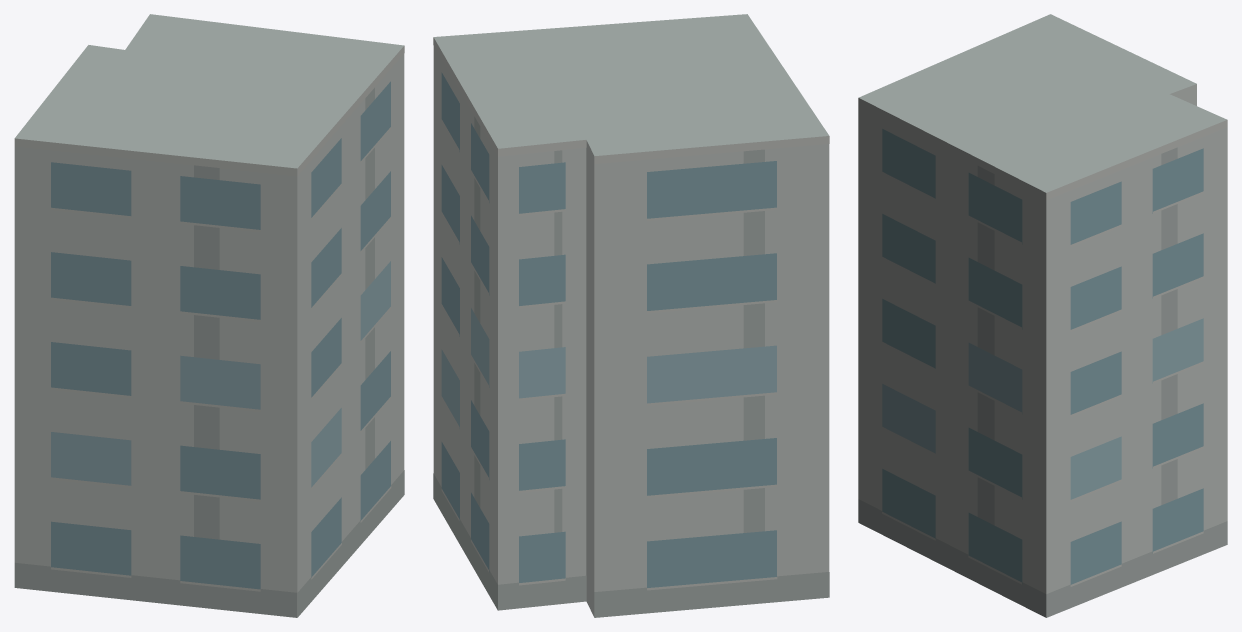
Rendered from survey-upis-32772372.glb.
3 renders of one model, left to right at view 1: azimuth 30°, elevation 25°; view 2: azimuth 150°, elevation 25°; view 3: azimuth 270°, elevation 25°, orthographic. The views are drawn at different scales.
Parts seen in each view (by area): view 1: survey-upis-32772372.tmp; view 2: survey-upis-32772372.tmp; view 3: survey-upis-32772372.tmp.
Boxes of the visible parts, x1,y1,x2,y2 form: survey-upis-32772372.tmp: (14,14,404,617); survey-upis-32772372.tmp: (433,14,829,617); survey-upis-32772372.tmp: (858,14,1227,617).
Bounding box in the file's own units: 12.65 × 14 × 11.03.
